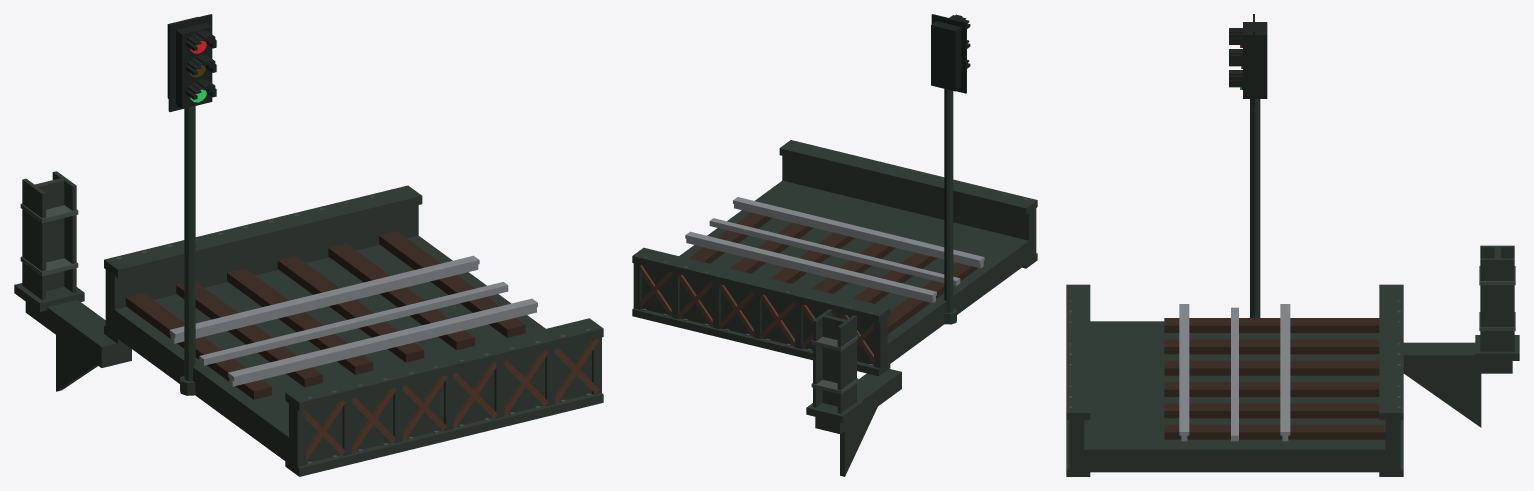
File: street.glb
3 renders of one model, left to right at view 1: azimuth 30°, elevation 25°; view 2: azimuth 150°, elevation 25°; view 3: azimuth 270°, elevation 25°, orthographic. The views are drawn at different scales.
Visible parts, largest first — view 1: ElSpan, TrafficSignal, ElColumn, ElColumnCap; view 2: ElSpan, TrafficSignal, ElColumn, ElColumnCap; view 3: ElSpan, ElColumnCap, TrafficSignal, ElColumn.
Part boxes in pixels (x1,y1,x2,y2): ElSpan: (104,185,603,476); TrafficSignal: (167,14,216,395); ElColumn: (20,171,78,299); ElColumnCap: (14,283,131,391); ElSpan: (632,140,1037,376); TrafficSignal: (931,14,970,324); ElColumn: (811,309,858,413); ElColumnCap: (806,369,901,476); ElSpan: (1066,284,1403,476); ElColumnCap: (1403,335,1519,427); TrafficSignal: (1229,14,1267,317); ElColumn: (1479,245,1515,351).
Size of the model in its own units: 3.22 by 4.41 by 4.49.
